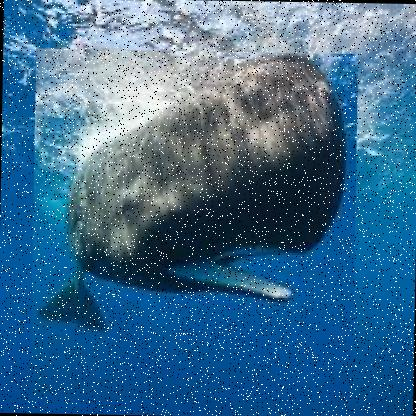sperm_whale: (29, 48, 358, 404)
